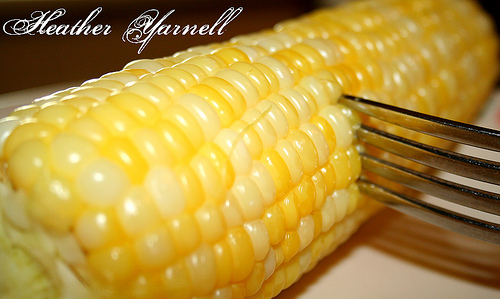corn: (0, 0, 498, 297)
